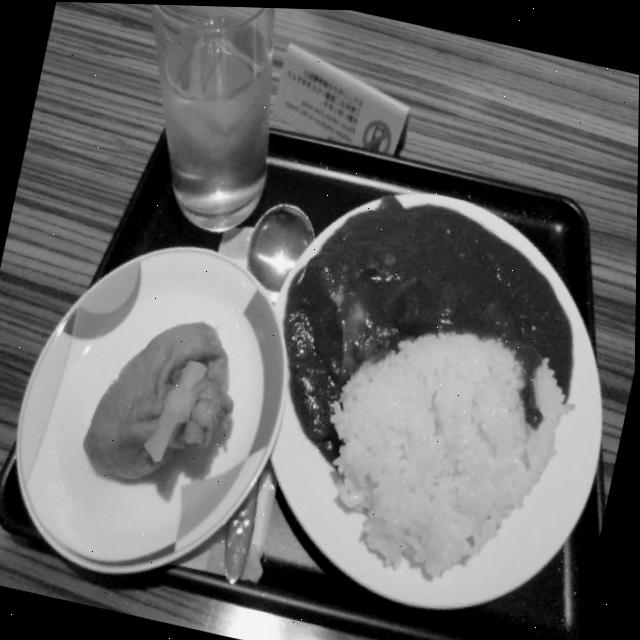汤锅炖物: (57, 294, 268, 527)
牛肉菜式: (259, 165, 638, 625)
